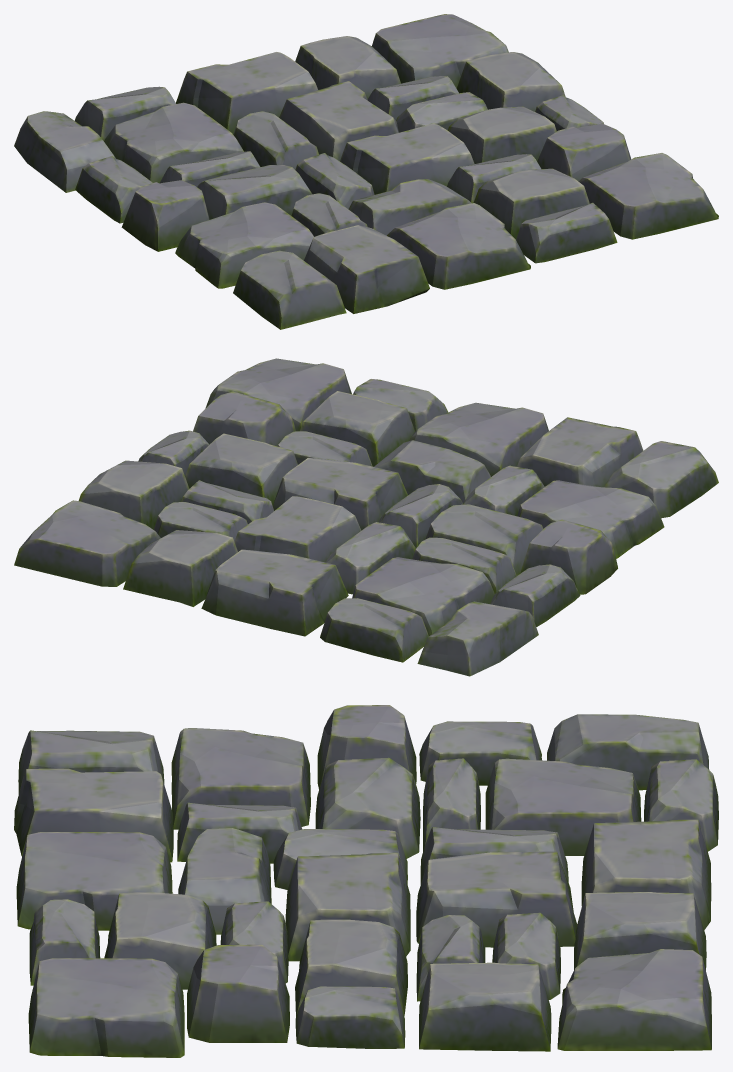
Rendered from RockPath_Square_Wide.glb.
The picture shows the model from 3 angles, top to bottom: view 1: azimuth 30°, elevation 25°; view 2: azimuth 150°, elevation 25°; view 3: azimuth 270°, elevation 25°; orthographic projection. The views are drawn at different scales.
Parts seen in each view (by area): view 1: RockPath_Square_Wide; view 2: RockPath_Square_Wide; view 3: RockPath_Square_Wide.
Boxes of the visible parts, box(x1,y1,x2,y2) form: RockPath_Square_Wide: box(14, 14, 718, 329); RockPath_Square_Wide: box(14, 358, 718, 676); RockPath_Square_Wide: box(14, 705, 718, 1057).
Bounding box in the file's own units: 2.05 × 0.1763 × 1.99.
Materials: 1 (1 with a texture image).
